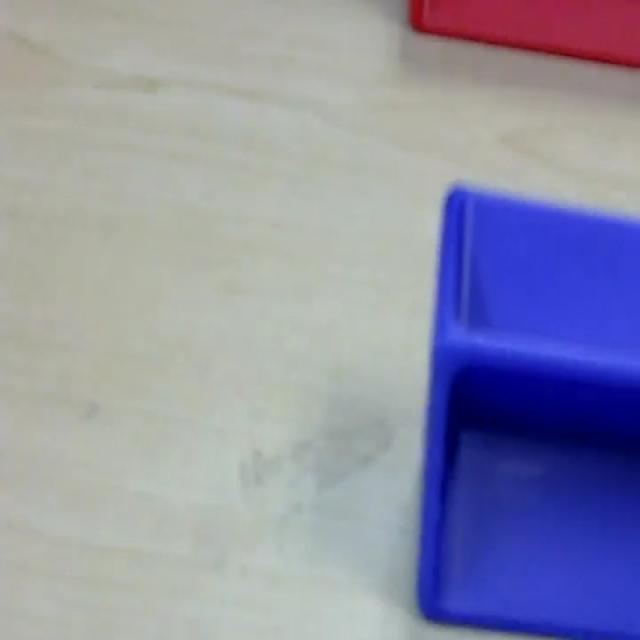blue_block: (415, 177, 638, 636)
